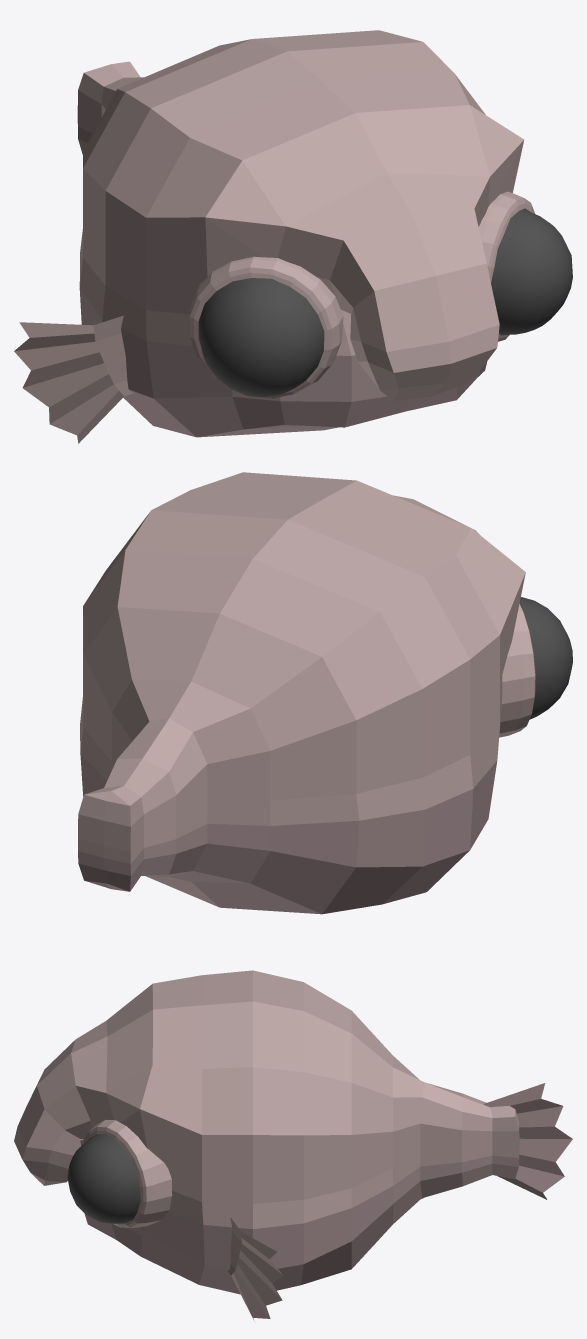
File: blobfish.glb
3 renders of one model, top to bottom at view 1: azimuth 30°, elevation 25°; view 2: azimuth 150°, elevation 25°; view 3: azimuth 270°, elevation 25°, orthographic. The views are drawn at different scales.
Parts seen in each view (by area): view 1: cutefish__Blobfish.glb; view 2: cutefish__Blobfish.glb; view 3: cutefish__Blobfish.glb.
Part boxes in pixels (bbox=[...]): cutefish__Blobfish.glb: bbox=[14, 30, 572, 443]; cutefish__Blobfish.glb: bbox=[78, 472, 572, 914]; cutefish__Blobfish.glb: bbox=[14, 970, 572, 1321].
Bounding box in the file's own units: 3.41 × 2.35 × 4.5.
